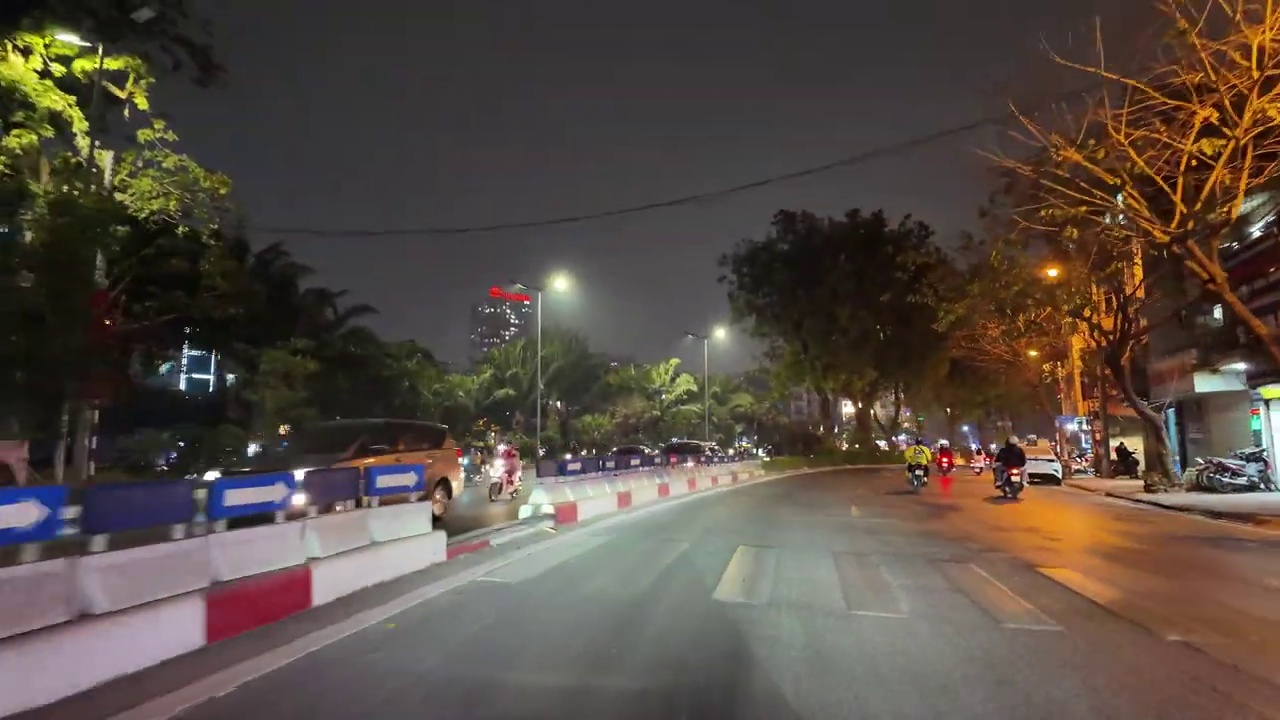acesa: (545, 269, 579, 300), (708, 323, 733, 349), (1040, 263, 1065, 284)
